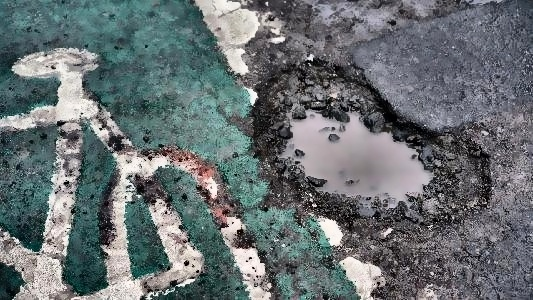pothole: (245, 57, 492, 237)
